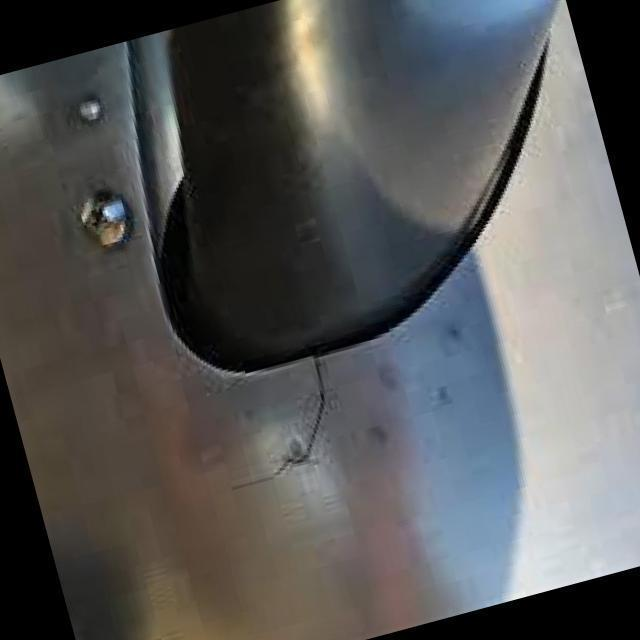defect: (224, 353, 327, 494)
